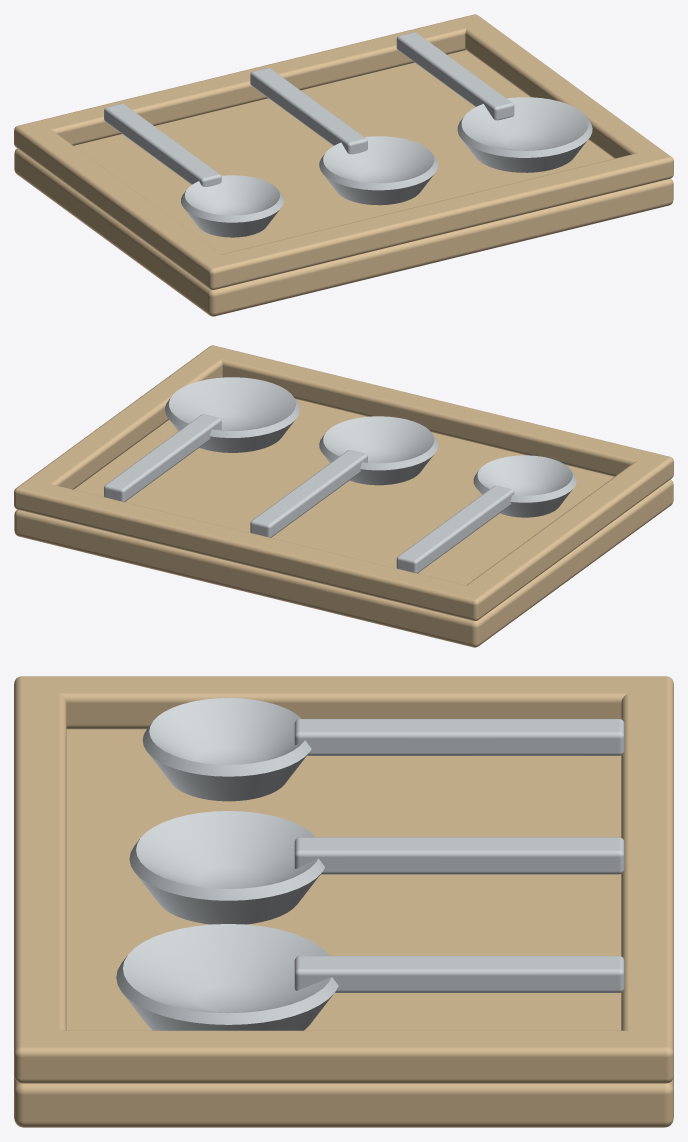
Rendered from candlemaking-and-soap-workshop-pigment-measuring-spoon-d25a0e5e__30672.glb.
The picture shows the model from 3 angles, top to bottom: view 1: azimuth 30°, elevation 25°; view 2: azimuth 150°, elevation 25°; view 3: azimuth 270°, elevation 25°; orthographic projection. The views are drawn at different scales.
Visible parts, largest first — view 1: pigment-measuring-spoon-set; view 2: pigment-measuring-spoon-set; view 3: pigment-measuring-spoon-set.
Part boxes in pixels (<box>): pigment-measuring-spoon-set: <box>14,14,673,316</box>; pigment-measuring-spoon-set: <box>14,345,673,647</box>; pigment-measuring-spoon-set: <box>14,676,673,1127</box>.
Bounding box in the file's own units: 0.27 × 0.033 × 0.2.
